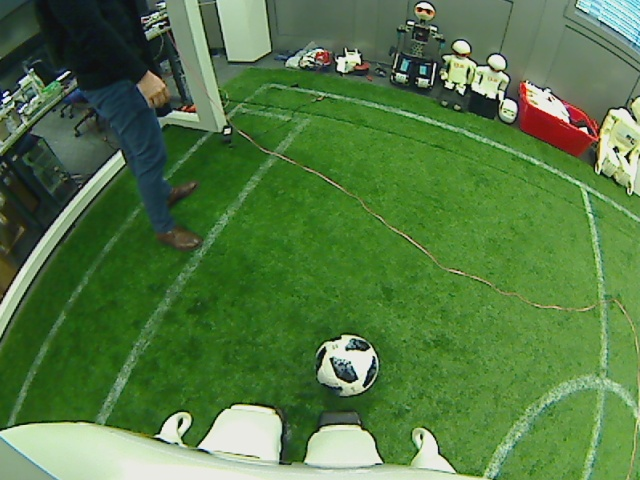ball: (313, 332, 378, 398)
